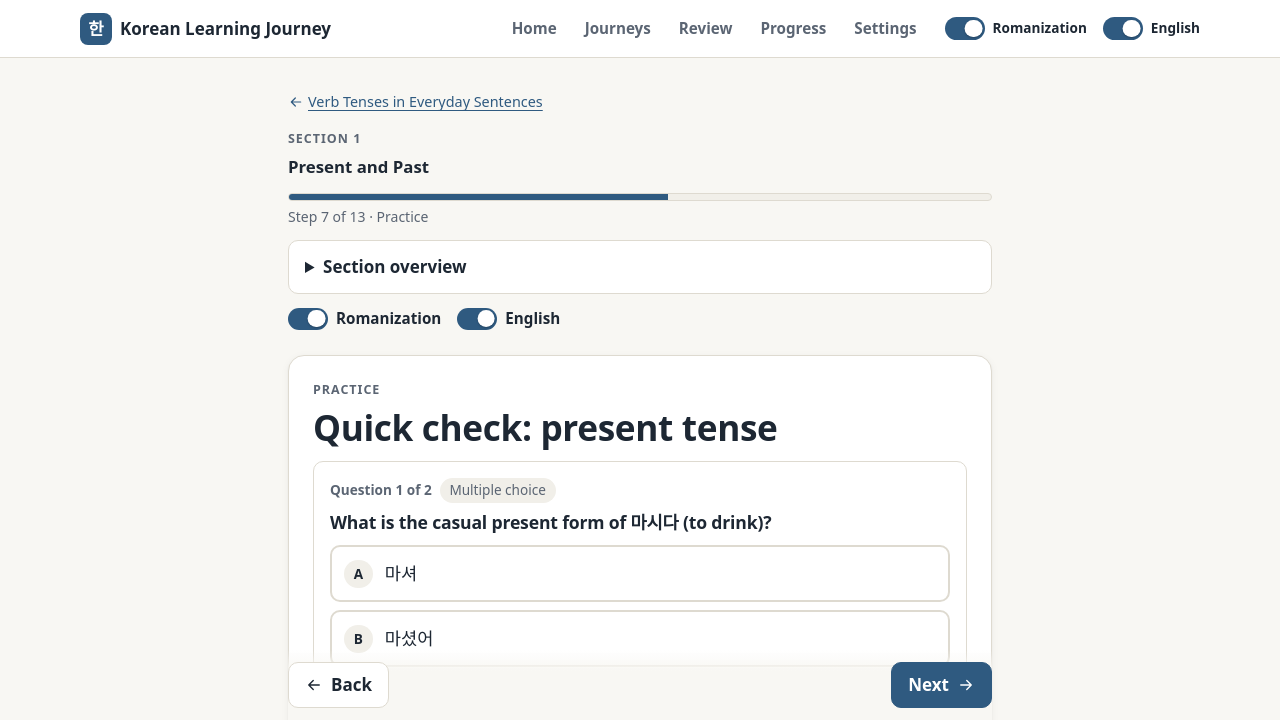
lesson reader › gives feedback on a multiple-choice answer and allows retry
Click the button "B 마셨어": [409, 638] box [330,610,950,667]
(page scrolled)
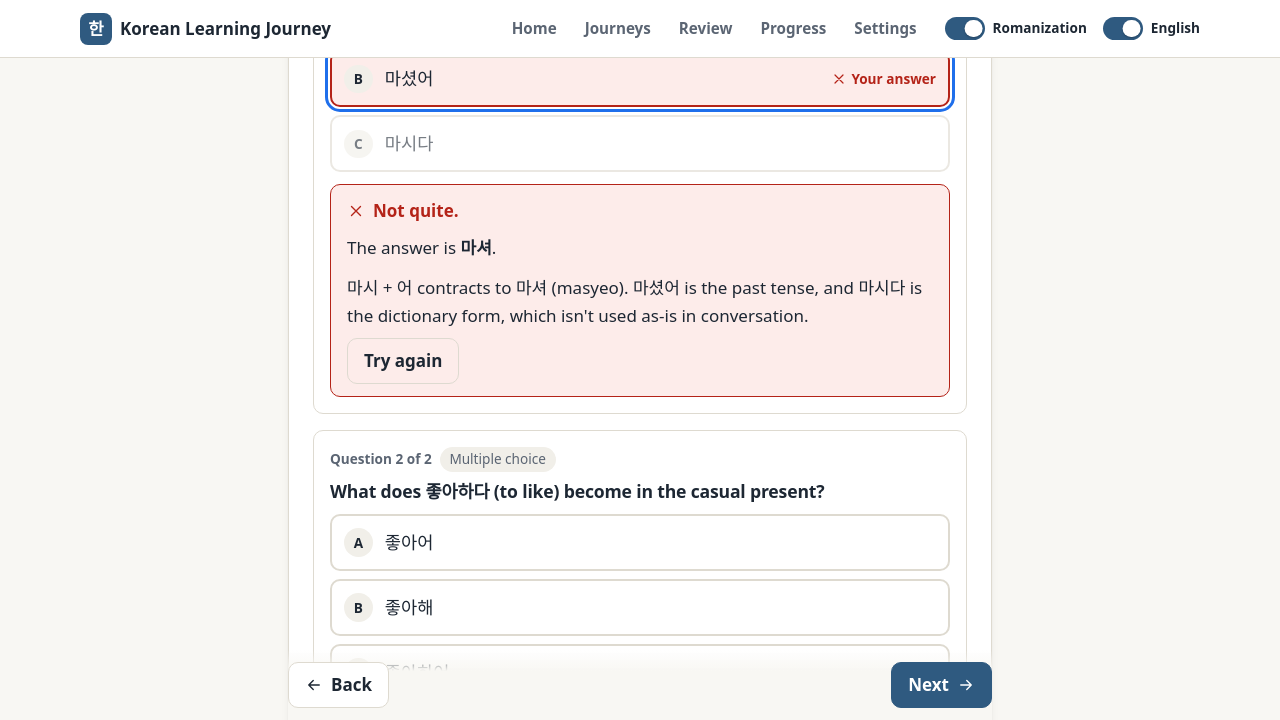
Now the message shows "Not quite", box [373,200,458,222]
Now the message shows "마시 + 어 contracts to 마셔", box [347,276,922,327]
Click the button "Try again": [403, 361] box [347,338,460,384]
(page scrolled)
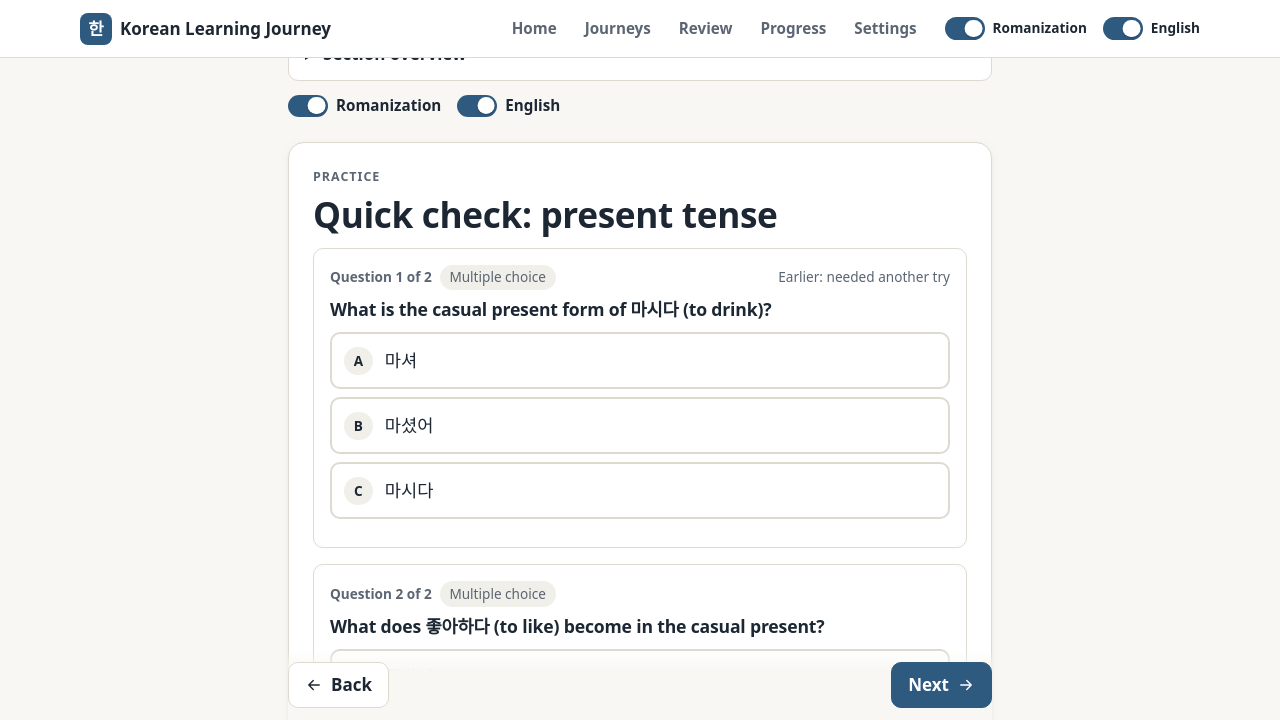
Click the button "A 마셔": [401, 360] box [330,332,950,389]
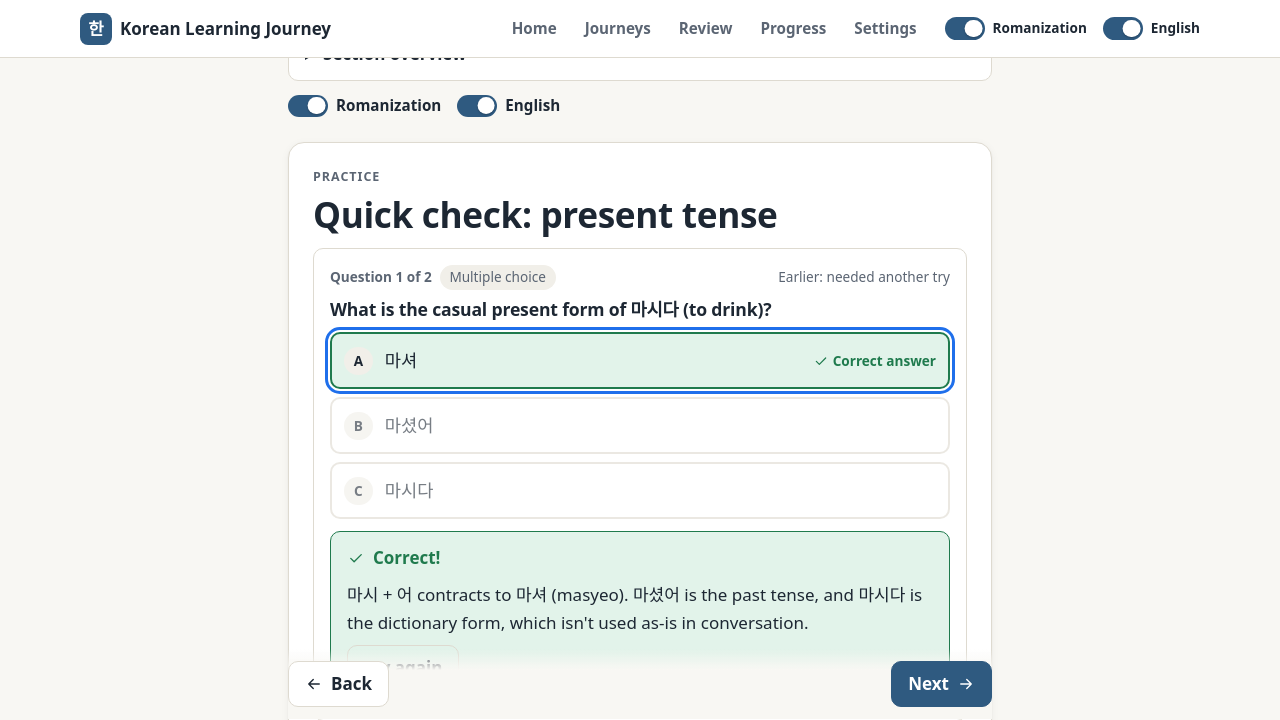
Now the message shows "Correct", box [373,546,440,570]
